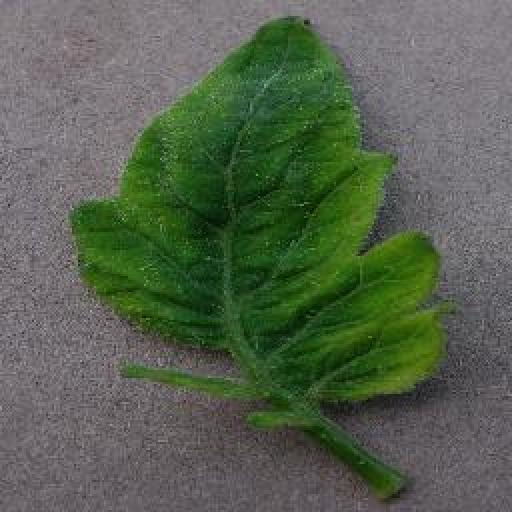disease_tomato: (68, 12, 460, 402)
